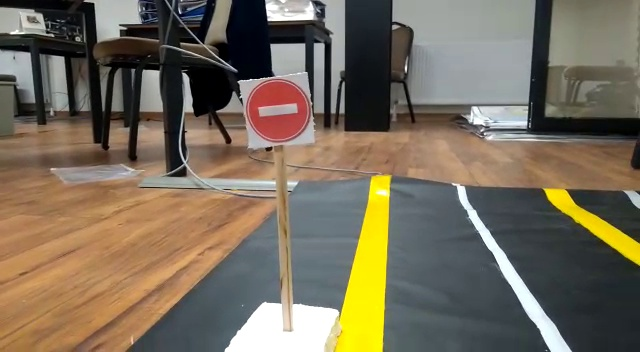girisi_olmayan_yol: (246, 73, 312, 149)
